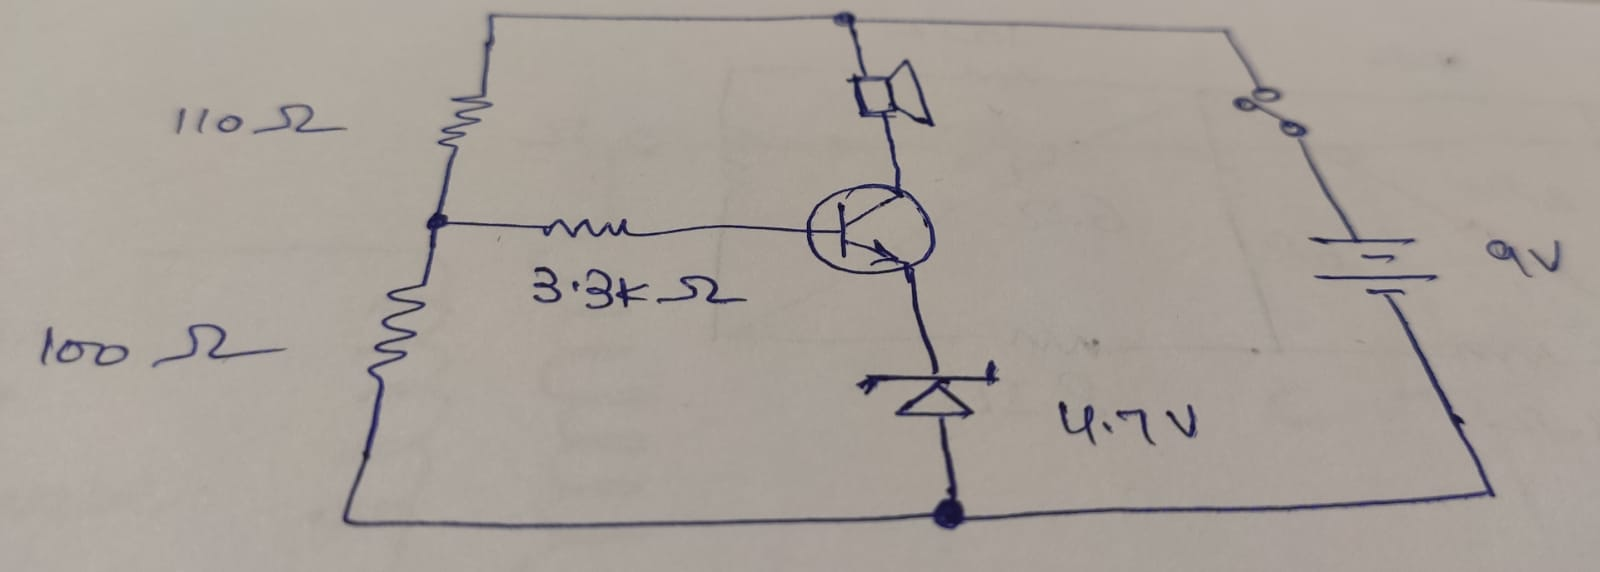diode: (861, 358, 1001, 421)
junction: (927, 490, 971, 532), (418, 207, 473, 237), (830, 8, 862, 35), (1474, 478, 1501, 504), (333, 507, 358, 532), (1212, 20, 1239, 44), (483, 7, 503, 25)
resistor: (363, 275, 428, 375), (435, 88, 496, 150), (540, 212, 635, 240)
speaker: (849, 57, 937, 128)
switch: (1233, 80, 1311, 142)
text: (38, 315, 291, 369), (529, 263, 748, 310), (1058, 397, 1198, 445), (169, 104, 352, 138), (1482, 235, 1562, 277)
transistor: (803, 180, 937, 276)
voltage.dc: (1309, 229, 1437, 298)
